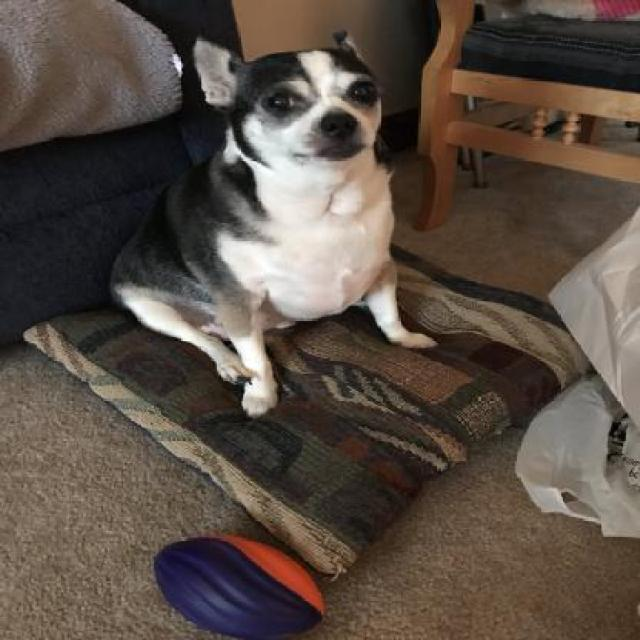Dog: (110, 31, 444, 423)
